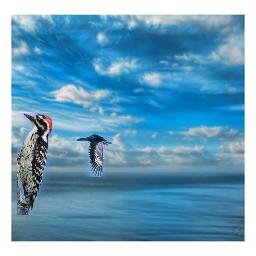Woodpecker: (18, 113, 53, 215), (76, 135, 113, 178)
